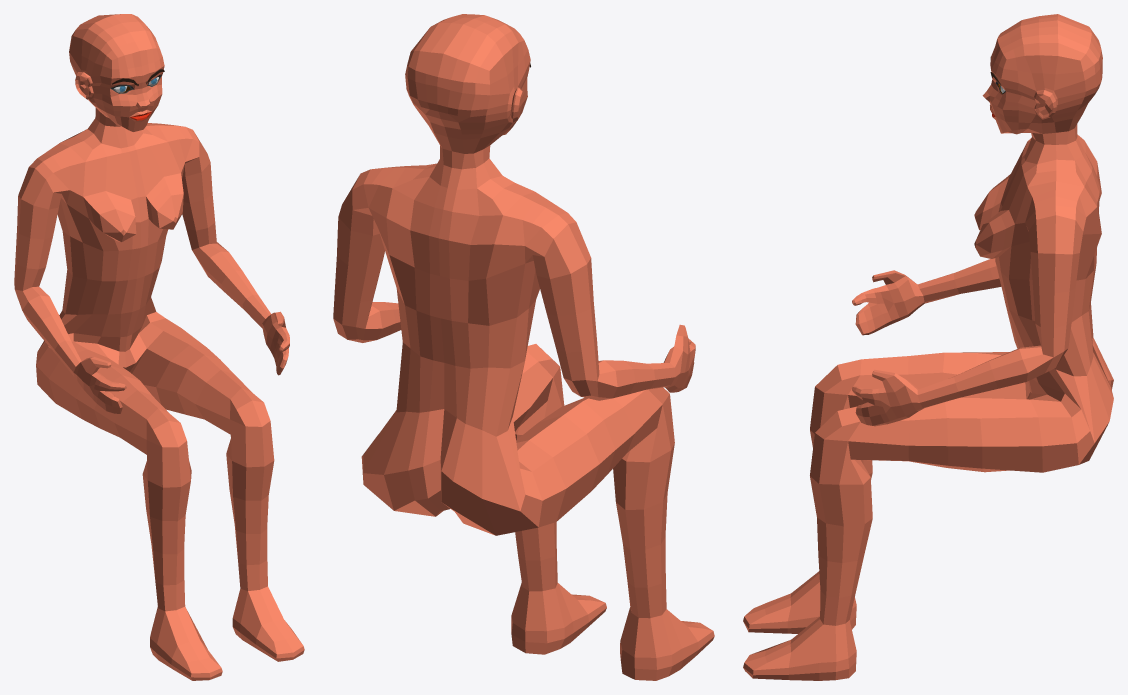
The model's file is Female_Sit.fbx.
3 renders of one model, left to right at view 1: azimuth 30°, elevation 25°; view 2: azimuth 150°, elevation 25°; view 3: azimuth 270°, elevation 25°, orthographic. The views are drawn at different scales.
Parts seen in each view (by area): view 1: Female_Sit; view 2: Female_Sit; view 3: Female_Sit.
Boxes of the visible parts, x1=… form: Female_Sit: x1=14, y1=14, x2=304, y2=680; Female_Sit: x1=333, y1=14, x2=714, y2=680; Female_Sit: x1=743, y1=14, x2=1113, y2=680.
Size of the model in its own units: 0.2788 by 0.7074 by 0.3788.
